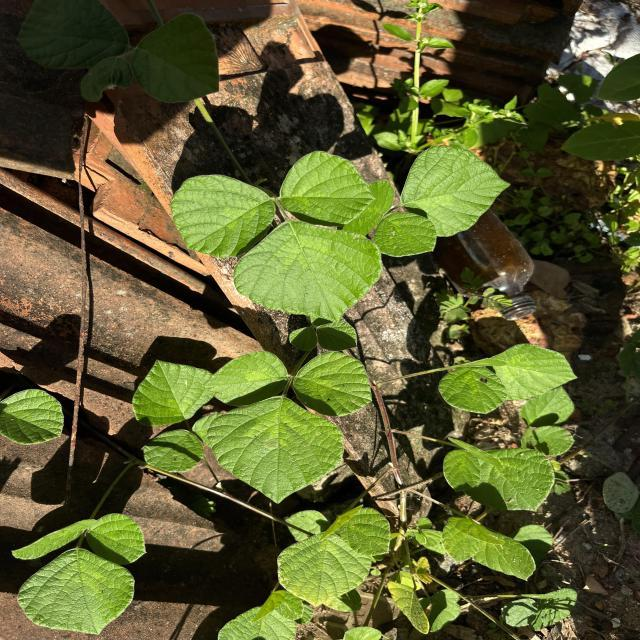Pseudarthria viscida: (168, 150, 384, 326), (200, 348, 376, 506), (8, 511, 148, 637)
